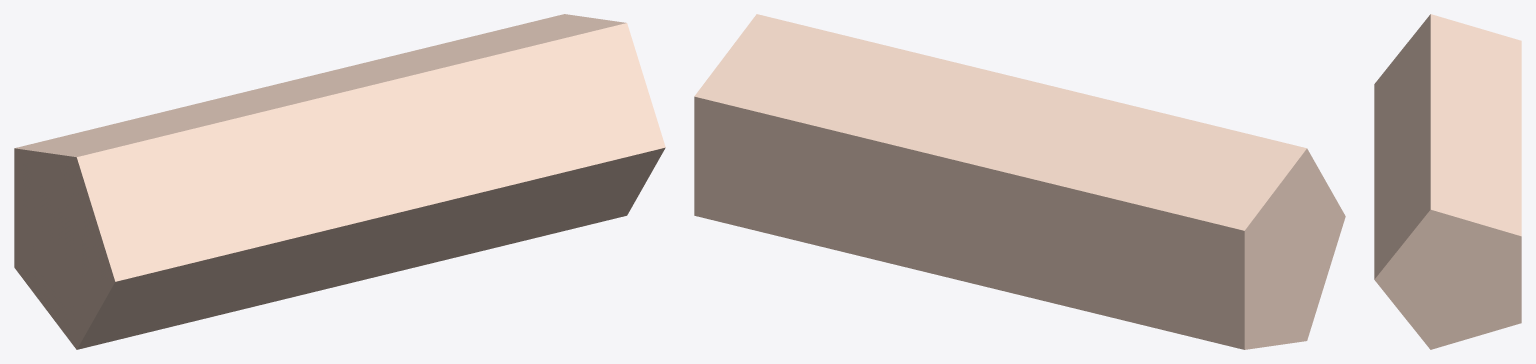
File: armL.obj
3 renders of one model, left to right at view 1: azimuth 30°, elevation 25°; view 2: azimuth 150°, elevation 25°; view 3: azimuth 270°, elevation 25°, orthographic. The views are drawn at different scales.
Visible parts, largest first — view 1: 円柱.002; view 2: 円柱.002; view 3: 円柱.002.
Boxes of the visible parts, bbox=[...] form: 円柱.002: bbox=[14, 14, 665, 349]; 円柱.002: bbox=[694, 14, 1345, 349]; 円柱.002: bbox=[1374, 14, 1521, 349].
Bounding box in the file's own units: 1.07 × 0.3595 × 0.3419.
1 material, 1 textured.
